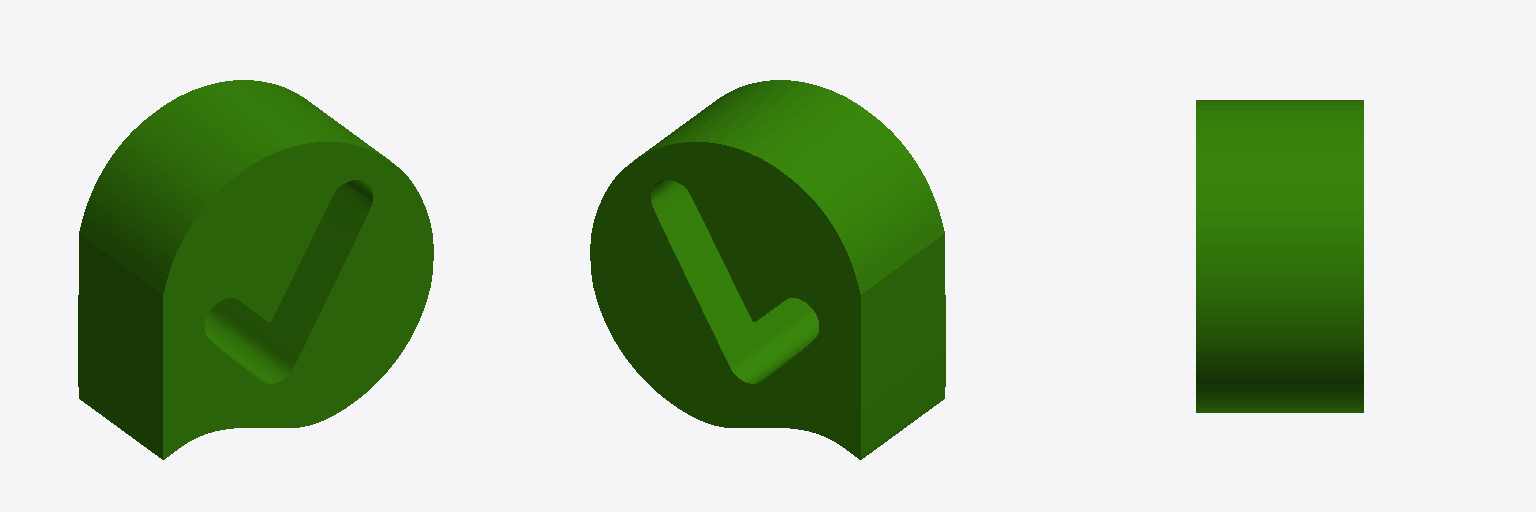
Rendered from ok_blender.obj.
3 renders of one model, left to right at view 1: azimuth 30°, elevation 25°; view 2: azimuth 150°, elevation 25°; view 3: azimuth 270°, elevation 25°, orthographic.
Parts seen in each view (by area): view 1: path3728; view 2: path3728; view 3: path3728.
Part boxes in pixels (x1,y1,x2,y2): path3728: (78,80,433,459); path3728: (590,80,945,459); path3728: (1196,100,1363,412).
Bounding box in the file's own units: 1.85 × 1.85 × 1.